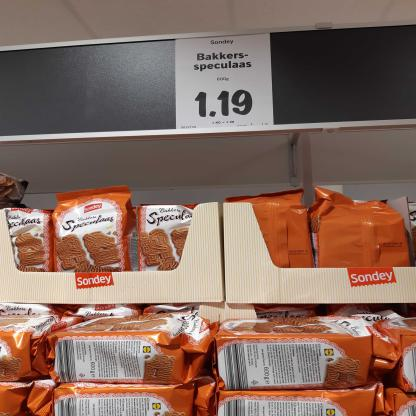prtg: (177, 34, 274, 130)
